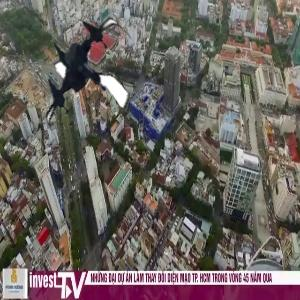drone: (26, 15, 146, 135)
